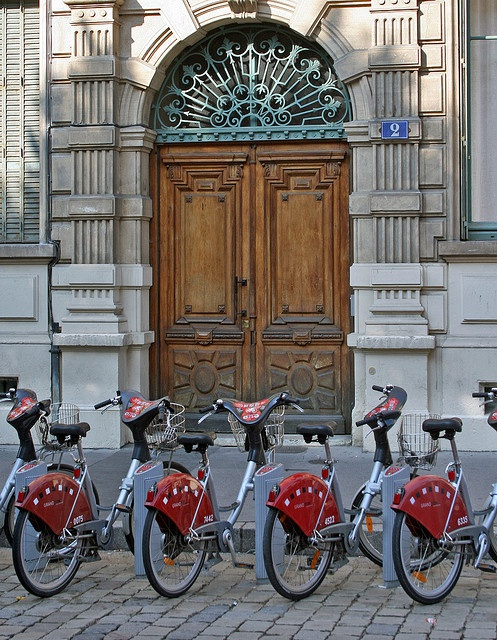non-vehicle: (261, 383, 442, 602), (11, 391, 185, 598), (141, 388, 305, 599), (388, 380, 497, 606), (2, 388, 70, 537)
